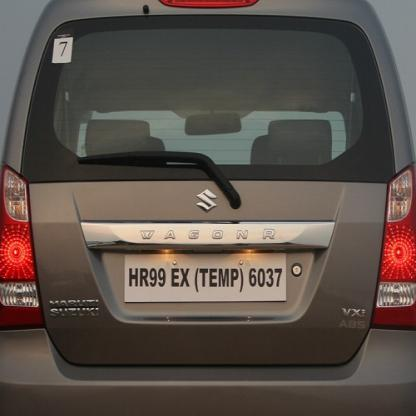license_plate: (124, 250, 285, 302)
